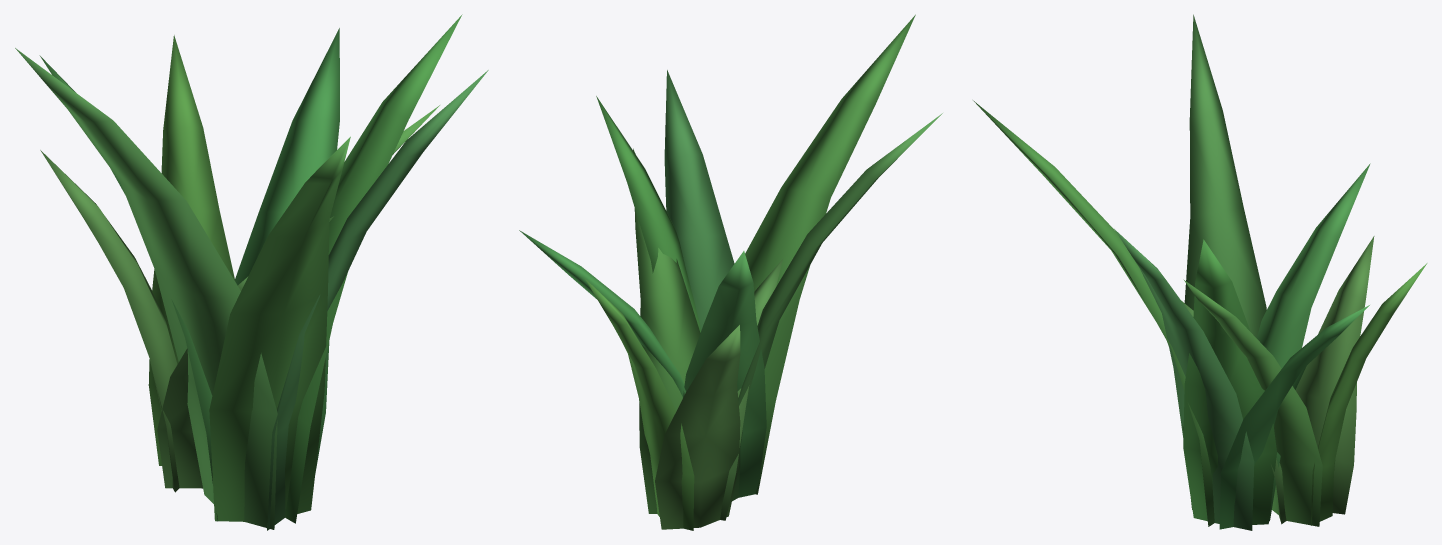
Rendered from W1_FloraRing_11_12.fbx.
3 renders of one model, left to right at view 1: azimuth 30°, elevation 25°; view 2: azimuth 150°, elevation 25°; view 3: azimuth 270°, elevation 25°, orthographic. The views are drawn at different scales.
Visible parts, largest first — view 1: W1_FloraRing_11_12; view 2: W1_FloraRing_11_12; view 3: W1_FloraRing_11_12.
Part boxes in pixels (box(x1,y1,x2,y2)): W1_FloraRing_11_12: box(15, 14, 488, 530); W1_FloraRing_11_12: box(519, 14, 942, 530); W1_FloraRing_11_12: box(973, 14, 1427, 530).
Size of the model in its own units: 0.1056 by 0.121 by 0.1241.
